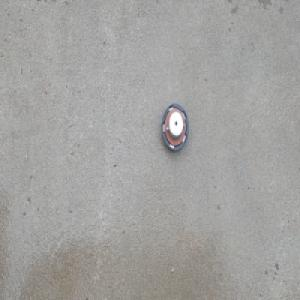FuelCap: (158, 101, 188, 153)
